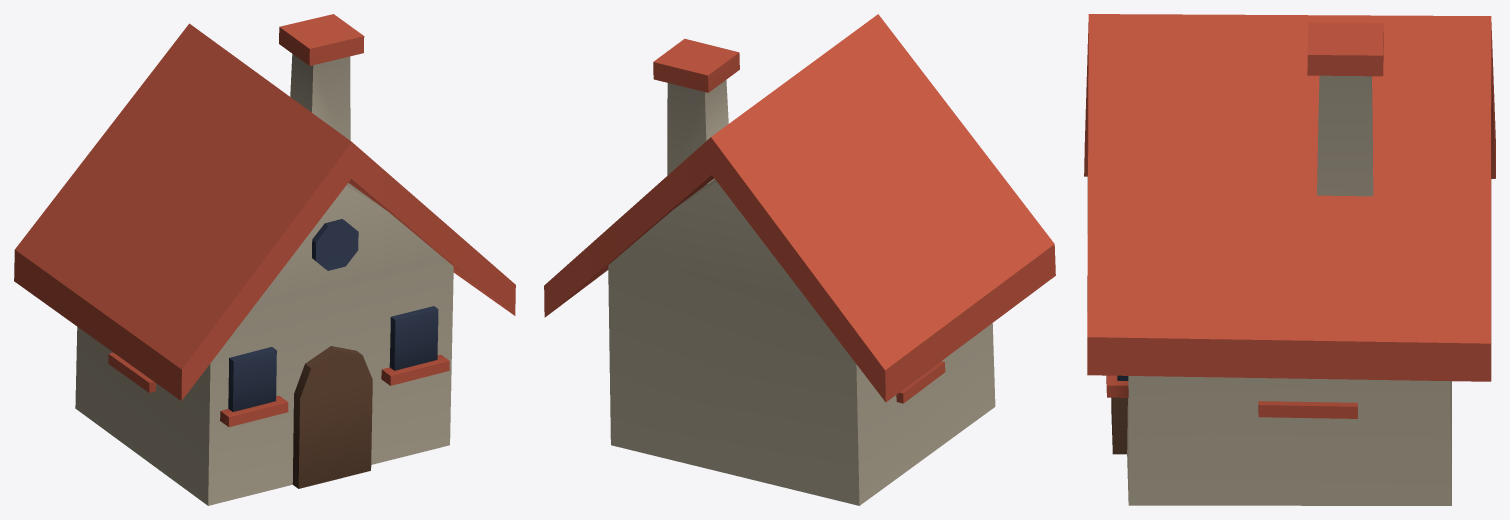
Rendered from building-1.glb.
3 views of the same model, side by side, from view 1: azimuth 30°, elevation 25°; view 2: azimuth 150°, elevation 25°; view 3: azimuth 270°, elevation 25° (orthographic). The views are drawn at different scales.
Parts seen in each view (by area): view 1: building; view 2: building; view 3: building.
Part boxes in pixels (left/top/right/bottom): building: left=14, top=14, right=515, bottom=505; building: left=544, top=14, right=1055, bottom=505; building: left=1084, top=14, right=1495, bottom=505.
Bounding box in the file's own units: 1.24 × 1.27 × 1.07.
